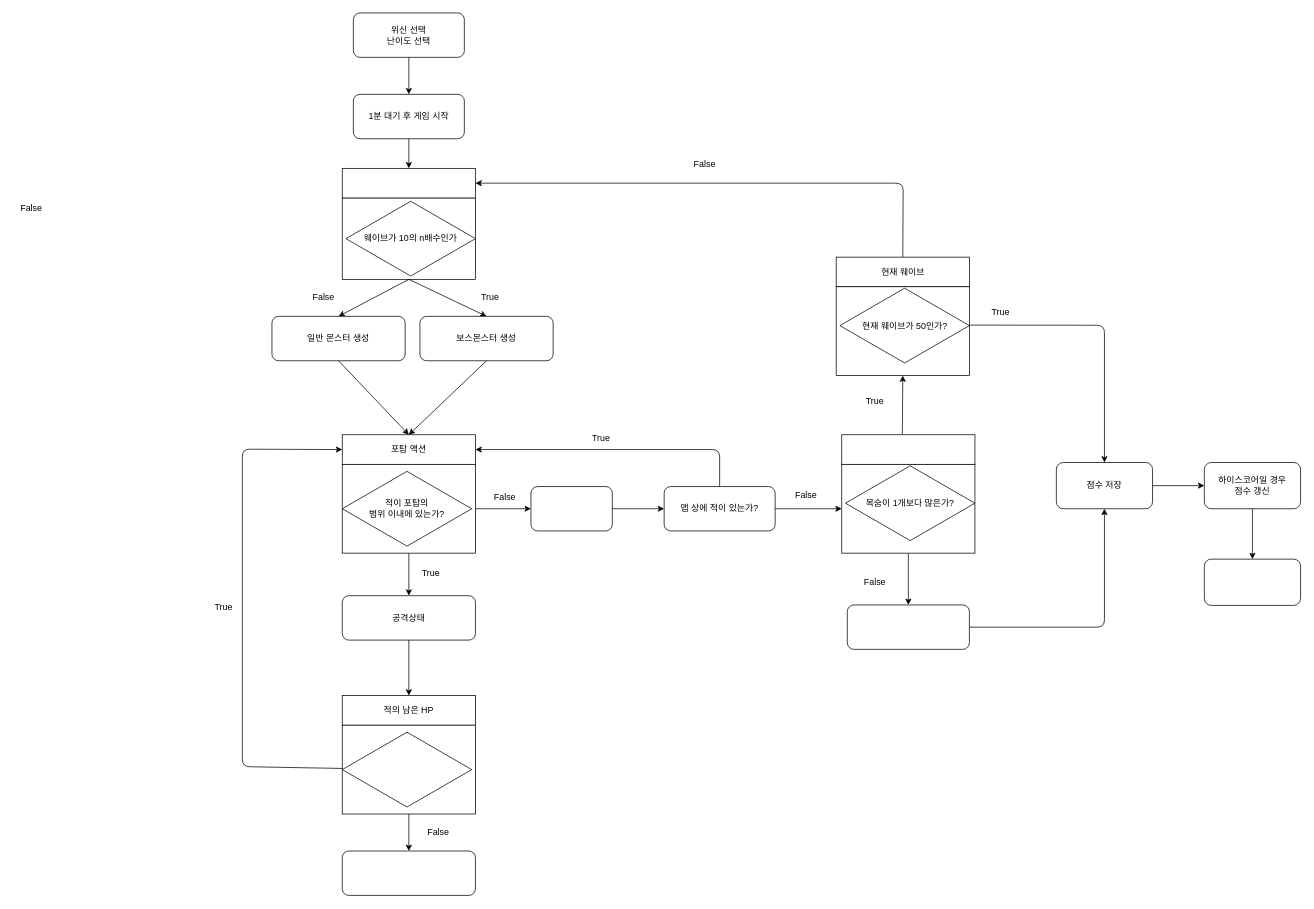
Image size: 1314x909. Some labels were removed from this diagram. The shapes that lost their labels are listed below. From the top down, each one's centre as x and y in pixels, then its label:
point (408, 183): 적 등장
point (908, 449): 현재 상태
point (571, 508): 대기상태
point (1252, 581): 시작화면으로 이동
point (908, 626): 게임 오버(패배)
point (407, 769): 적의 HP가 1 이상인가?
point (408, 872): 적 제거 // 자원 획득
